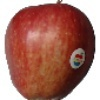apple: (5, 3, 96, 100)
